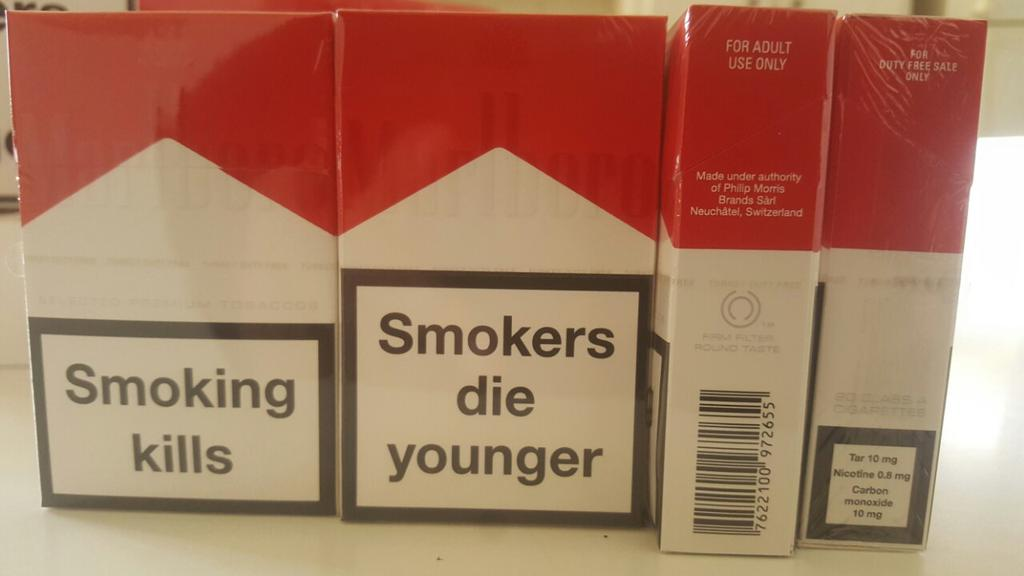marlboro_red: (336, 15, 653, 520), (35, 13, 332, 504)
